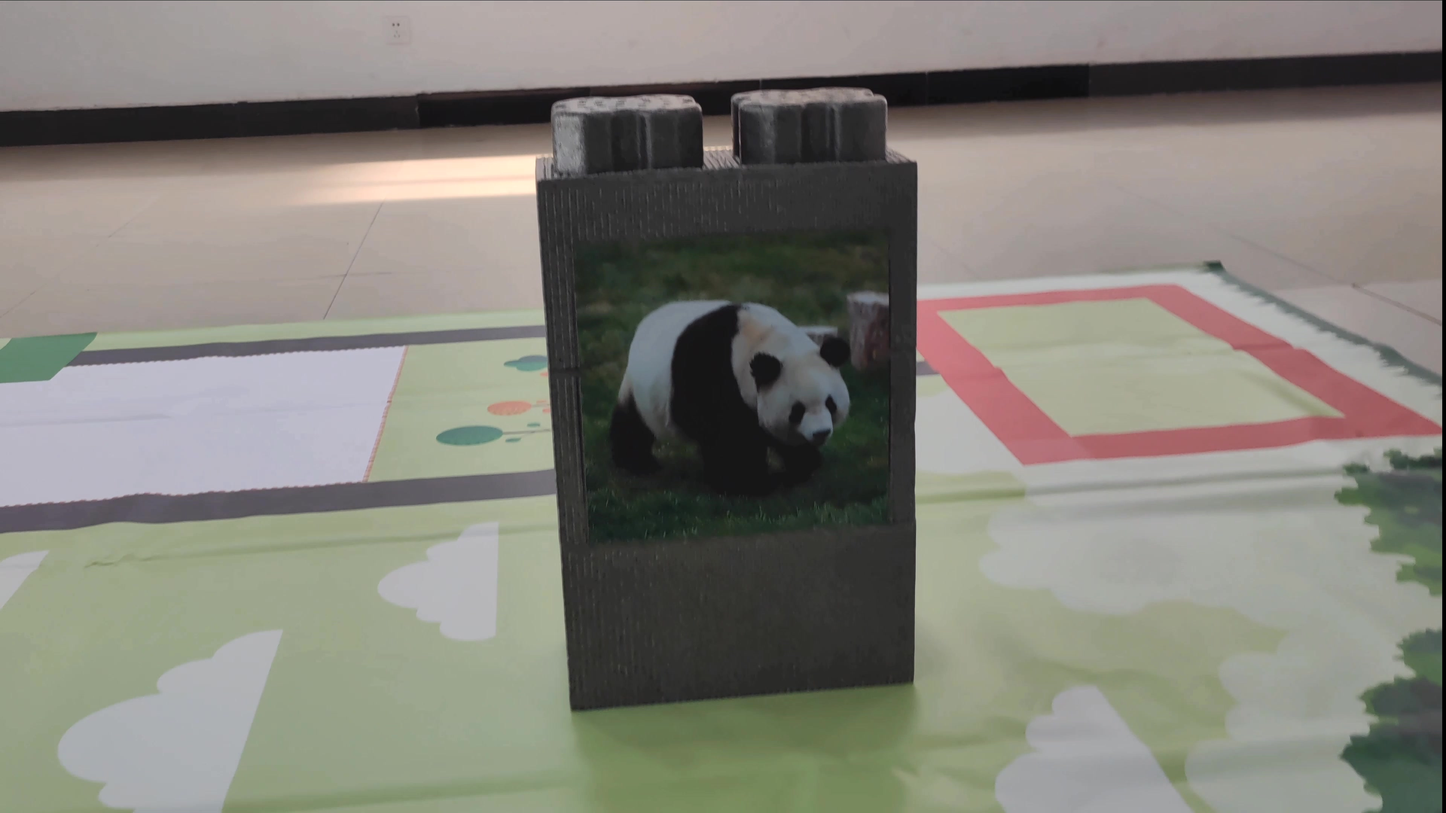panda: (582, 264, 889, 516)
